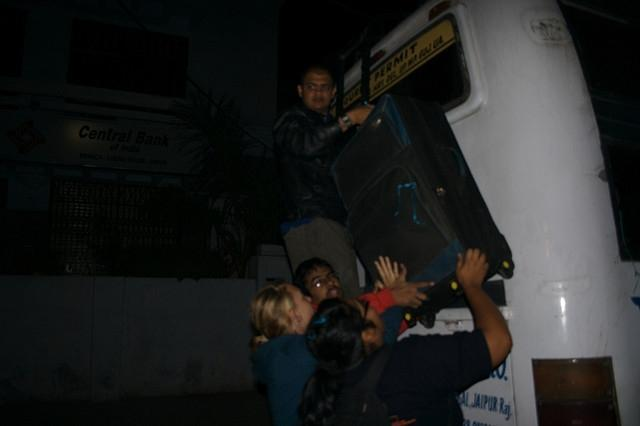bus: (346, 2, 640, 421)
